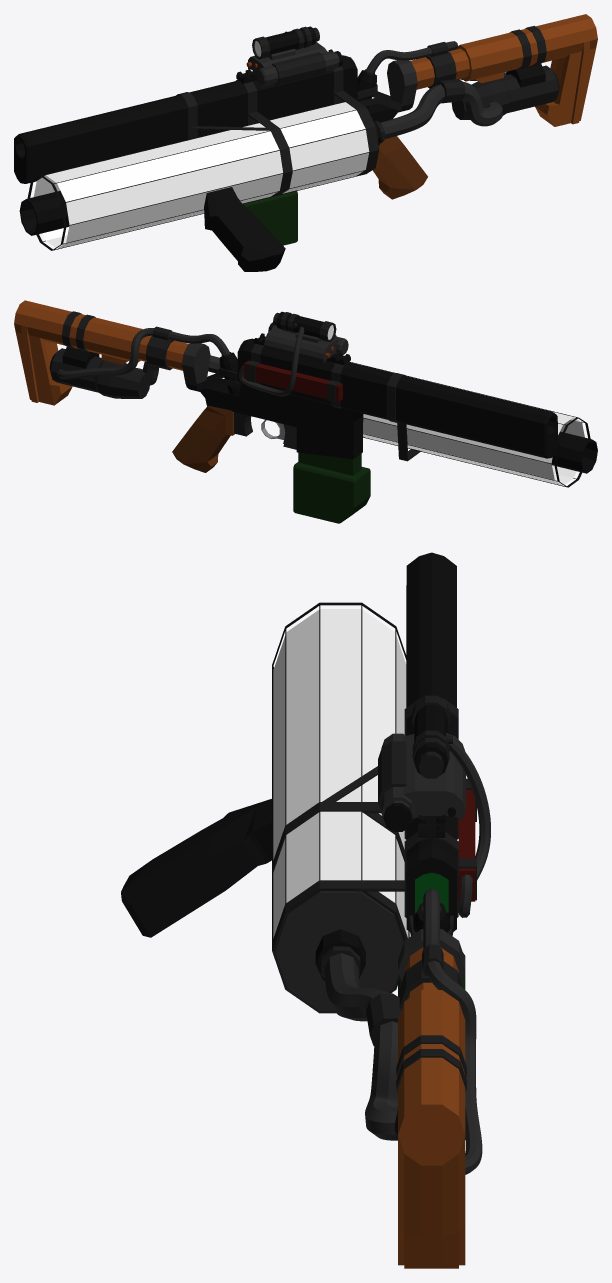
Rendered from Venom X.obj.
3 renders of one model, top to bottom at view 1: azimuth 30°, elevation 25°; view 2: azimuth 150°, elevation 25°; view 3: azimuth 270°, elevation 25°, orthographic. The views are drawn at different scales.
Visible parts, largest first — view 1: Cylinder.001, Cylinder, Cylinder.002, Plane.001_Plane.002, Cylinder.014_Cylinder.015, Cylinder.003, NurbsPath.001_CUNurbsPath.002, Plane, Cube_Cube.002, Cylinder.015_Cylinder.016, Cylinder.025_Cylinder.027, Cylinder.006_Cylinder.007 (+13 smaller); view 2: Cylinder, Cylinder.002, Cylinder.001, Cube_Cube.002, Plane, Cylinder.003, NurbsPath.002_CUNurbsPath.003, Cylinder.025_Cylinder.027, Cube.014_Cube.016, Cylinder.015_Cylinder.016, Cylinder.014_Cylinder.015, Cylinder.006_Cylinder.007 (+12 smaller); view 3: Cylinder.001, Cylinder.002, Cylinder, Plane.001_Plane.002, Cylinder.018_Cylinder.019, NurbsPath.001_CUNurbsPath.002, NurbsPath.002_CUNurbsPath.003, Cylinder.025_Cylinder.027, Cylinder.014_Cylinder.015, NurbsPath.003_CUNurbsPath.001, Cylinder.020_Cylinder.021, Cylinder.027_Cylinder.029 (+6 smaller).
Boxes of the visible parts, x1=… form: Cylinder.001: x1=33, y1=102, x2=369, y2=248; Cylinder: x1=14, y1=55, x2=413, y2=183; Cylinder.002: x1=410, y1=14, x2=597, y2=126; Plane.001_Plane.002: x1=204, y1=187, x2=285, y2=271; Cylinder.014_Cylinder.015: x1=27, y1=99, x2=378, y2=250; Cylinder.003: x1=451, y1=65, x2=559, y2=119; NurbsPath.001_CUNurbsPath.002: x1=380, y1=82, x2=502, y2=138; Plane: x1=372, y1=136, x2=427, y2=199; Cube_Cube.002: x1=243, y1=190, x2=297, y2=245; Cylinder.015_Cylinder.016: x1=19, y1=190, x2=69, y2=235; Cylinder.025_Cylinder.027: x1=247, y1=42, x2=339, y2=86; Cylinder.006_Cylinder.007: x1=387, y1=60, x2=417, y2=106; Cylinder: x1=186, y1=338, x2=557, y2=459; Cylinder.002: x1=14, y1=300, x2=188, y2=405; Cylinder.001: x1=363, y1=412, x2=584, y2=485; Cube_Cube.002: x1=293, y1=452, x2=370, y2=523; Plane: x1=172, y1=405, x2=234, y2=472; Cylinder.003: x1=49, y1=348, x2=150, y2=398; NurbsPath.002_CUNurbsPath.003: x1=57, y1=328, x2=229, y2=379; Cylinder.025_Cylinder.027: x1=264, y1=325, x2=348, y2=363; Cube.014_Cube.016: x1=244, y1=360, x2=342, y2=401; Cylinder.015_Cylinder.016: x1=551, y1=431, x2=597, y2=473; Cylinder.014_Cylinder.015: x1=351, y1=362, x2=590, y2=487; Cylinder.006_Cylinder.007: x1=182, y1=343, x2=210, y2=386; Cylinder.001: x1=273, y1=609, x2=407, y2=937; Cylinder.002: x1=398, y1=947, x2=465, y2=1268; Cylinder: x1=406, y1=552, x2=456, y2=931; Plane.001_Plane.002: x1=121, y1=799, x2=271, y2=937; Cylinder.018_Cylinder.019: x1=275, y1=891, x2=403, y2=1011; NurbsPath.001_CUNurbsPath.002: x1=324, y1=953, x2=397, y2=1140; NurbsPath.002_CUNurbsPath.003: x1=423, y1=888, x2=482, y2=1174; Cylinder.025_Cylinder.027: x1=381, y1=733, x2=465, y2=822; Cylinder.014_Cylinder.015: x1=272, y1=602, x2=409, y2=1013; NurbsPath.003_CUNurbsPath.001: x1=446, y1=733, x2=490, y2=917; Cylinder.020_Cylinder.021: x1=272, y1=880, x2=407, y2=1012; Cylinder.027_Cylinder.029: x1=378, y1=741, x2=406, y2=811.
Size of the model in its own units: 7.47 by 2.49 by 2.2.
